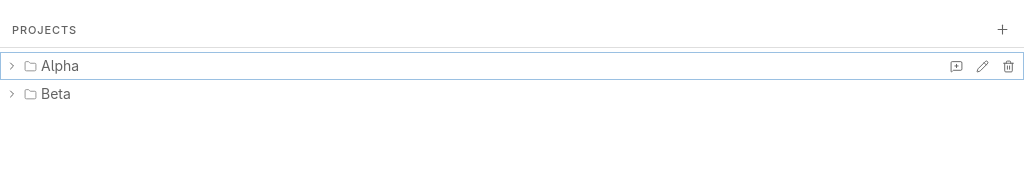
Scenario: ProjectTree › loads a project's chats only once it is expanded
The image size is (1024, 172).
Check: the list item "Alpha" is shown, box [0, 52, 1023, 80]
Check: the list item "rolling beta" is not shown
Click the button named "expand alpha": (12, 66) [4, 58, 20, 74]
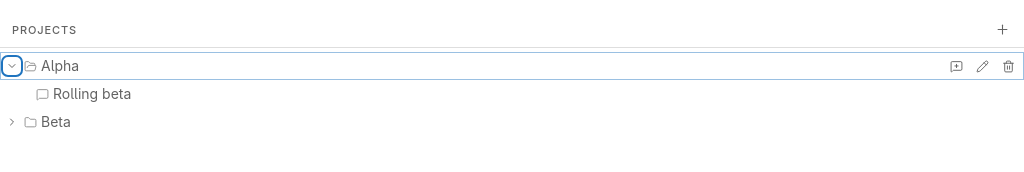
Check: the list item "Rolling beta" is shown, box [36, 85, 131, 102]
